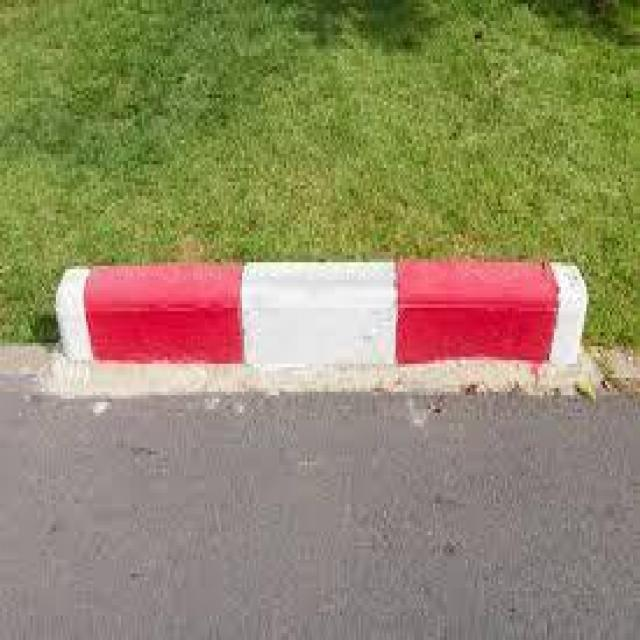curb: (60, 267, 596, 367)
